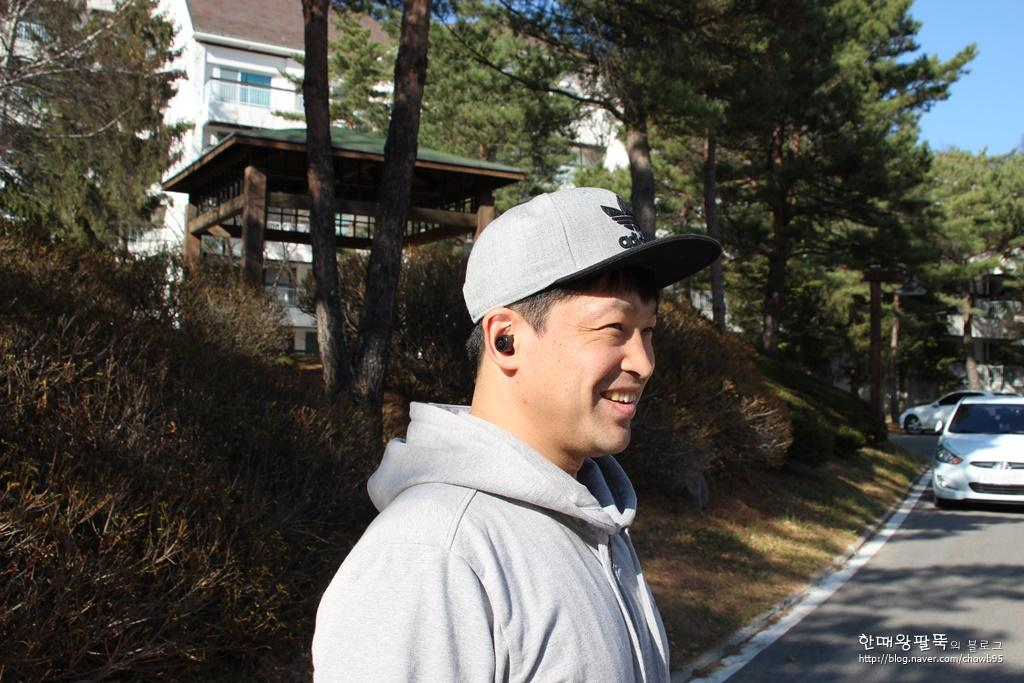earphone: (491, 330, 522, 363)
